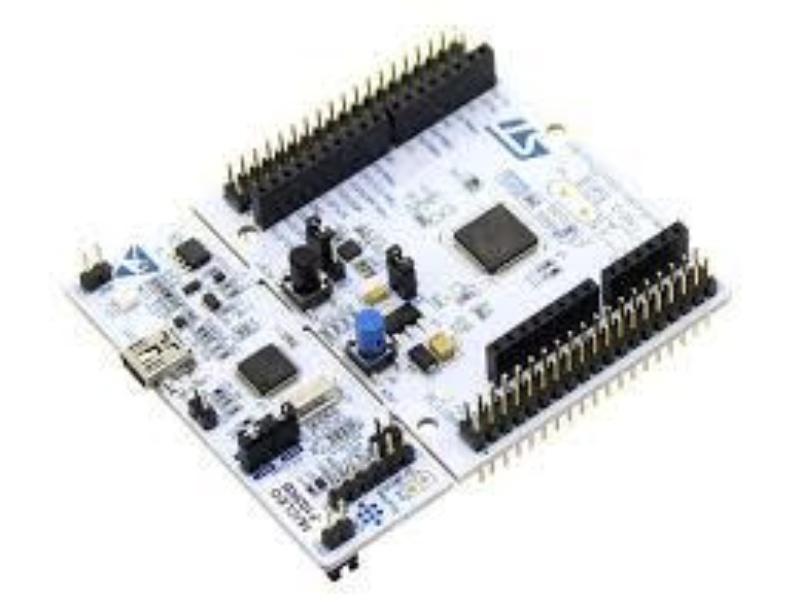stmnucleo: (72, 41, 734, 521)
